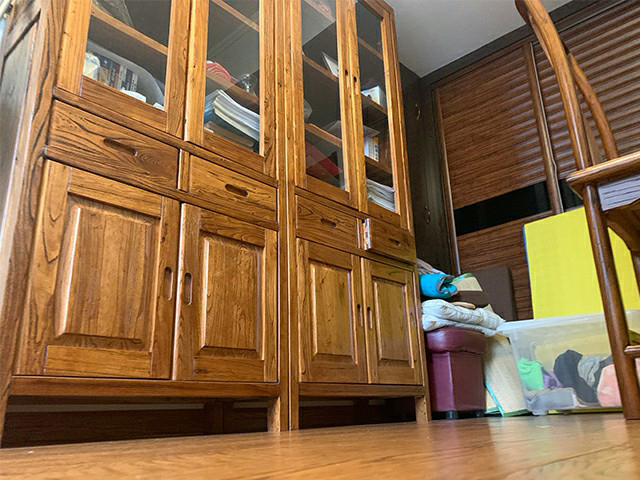cabinet: (1, 6, 423, 438)
stool: (514, 1, 640, 419)
